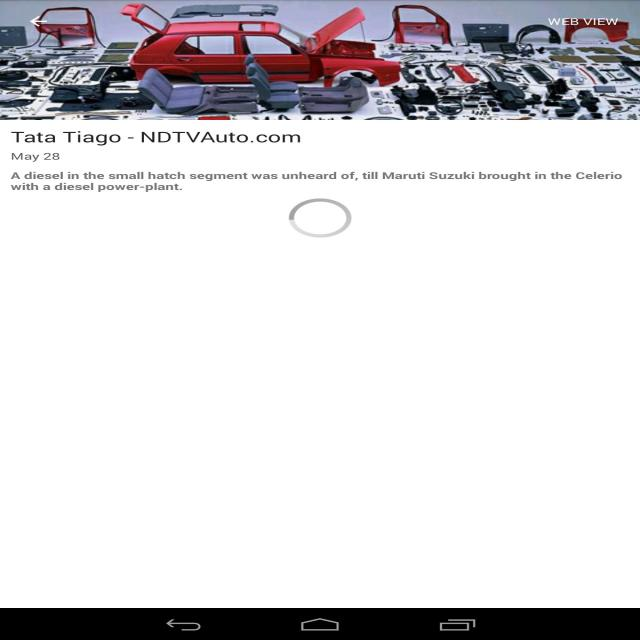heading: (5, 129, 304, 148)
image: (2, 0, 640, 123)
text: (8, 168, 623, 194), (7, 152, 63, 163)
